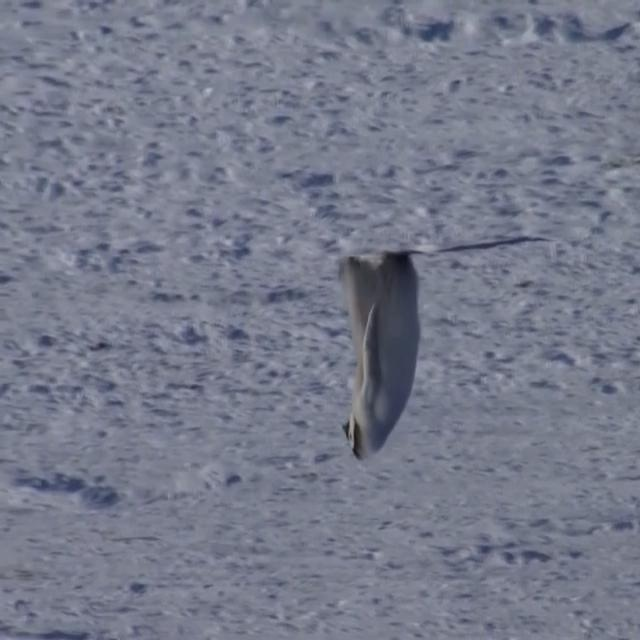penguin: (336, 251, 421, 461)
